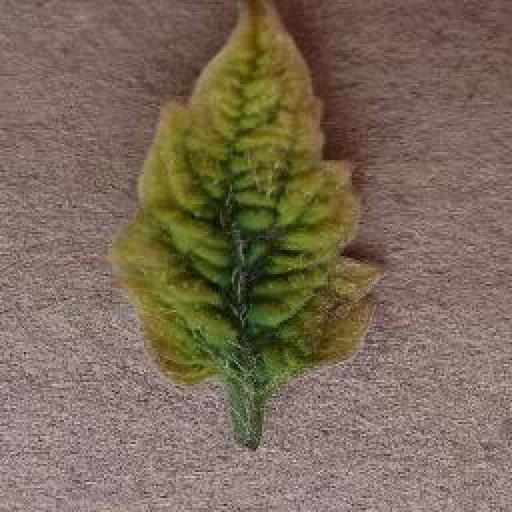disease_tomato: (112, 0, 386, 392)
